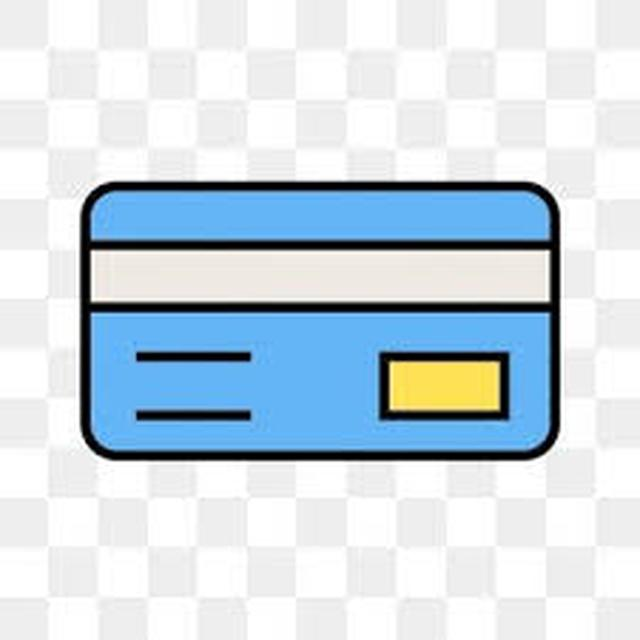card: (66, 146, 578, 464)
